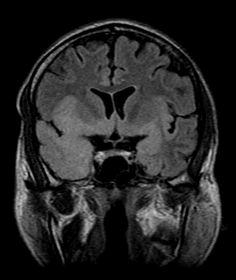Normal_Brain: (2, 3, 236, 280)
